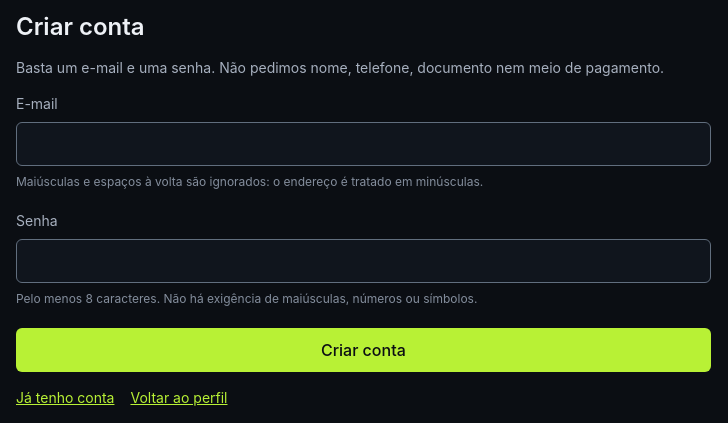
Test case: cadastro (A-A2) › não diz que o e-mail já existe: a api responde o mesmo exista ou não a conta
Type "pedro@exemplo.pt" into the field labelled "E-mail" at (363, 144), box [16, 122, 711, 166]
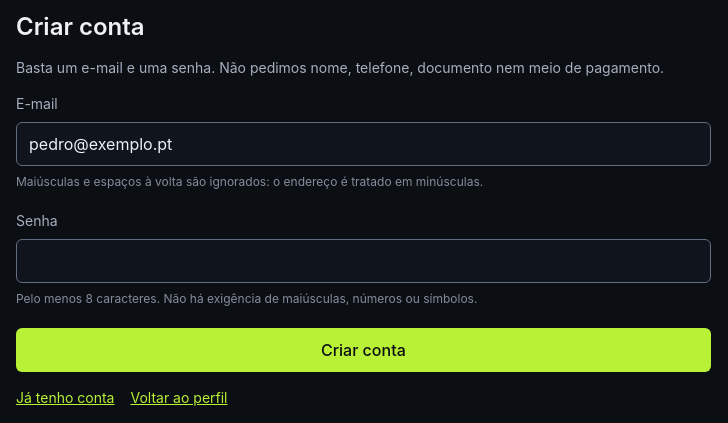
Type "senha-comprida" into the password field labelled "Senha" at (363, 262), box [16, 240, 711, 284]
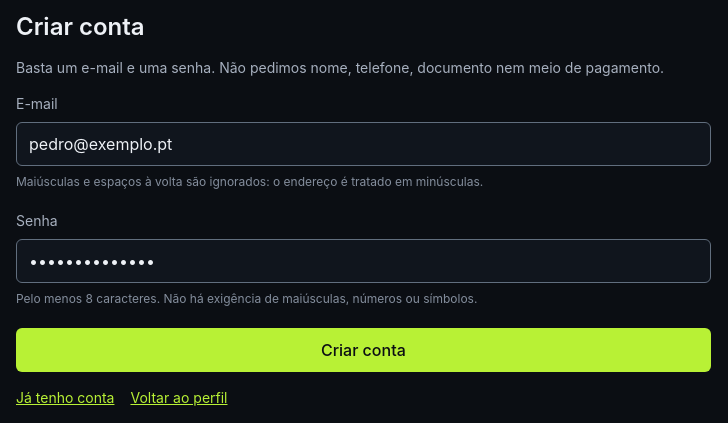
Click the button "Criar conta" at (363, 350), box [16, 328, 711, 372]
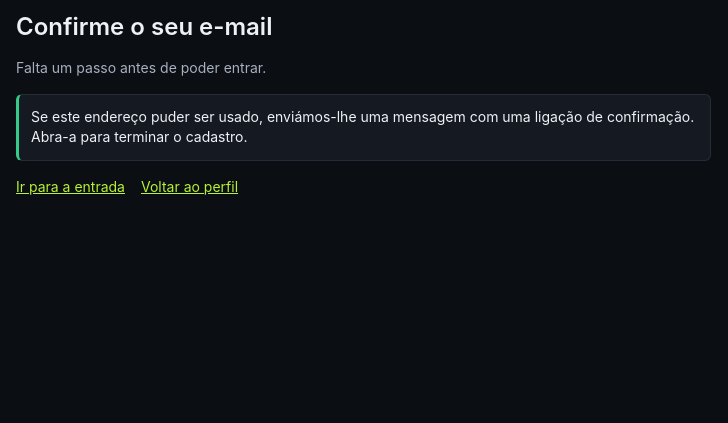
Expected: the message shows "Se este endereço puder ser usado", [31, 108, 694, 145]
